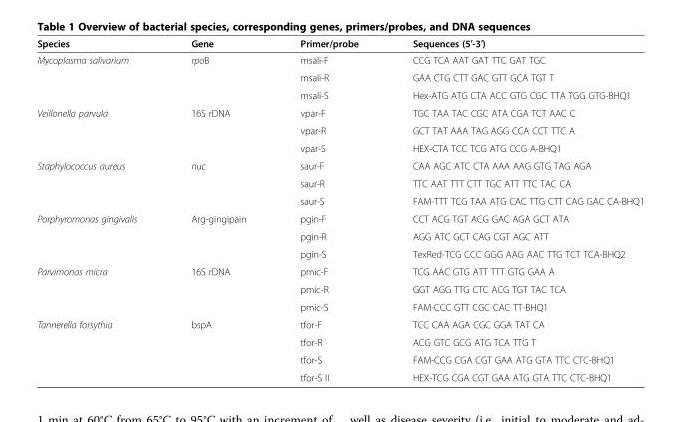table: (36, 37, 643, 382)
table column: (384, 37, 643, 382), (36, 37, 163, 382), (272, 37, 384, 382), (163, 37, 272, 382)
table column header: (36, 37, 643, 51)
table row: (36, 68, 643, 86), (36, 103, 643, 121), (36, 121, 643, 139), (36, 156, 643, 174), (36, 191, 643, 209), (36, 209, 643, 227), (36, 244, 643, 262), (36, 262, 643, 280), (36, 297, 643, 315), (36, 315, 643, 333), (36, 350, 643, 368), (36, 51, 643, 68), (36, 86, 643, 103), (36, 139, 643, 156), (36, 174, 643, 191), (36, 227, 643, 244), (36, 280, 643, 297), (36, 333, 643, 350), (36, 37, 643, 51), (36, 368, 643, 382)
table spanning cell: (36, 315, 163, 382), (36, 103, 163, 156), (36, 156, 163, 209), (36, 209, 163, 262), (36, 262, 163, 315), (36, 51, 163, 103)
